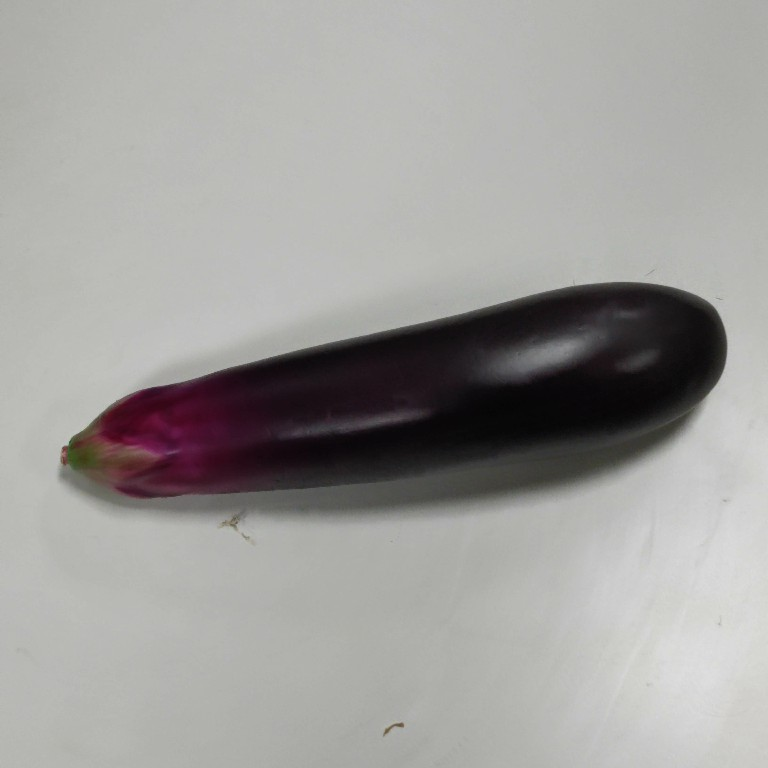fruit_eggplant: (59, 276, 731, 504)
